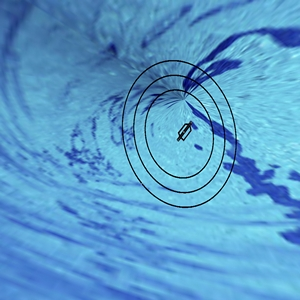circle: (110, 44, 242, 214)
submarine: (173, 116, 197, 152)
